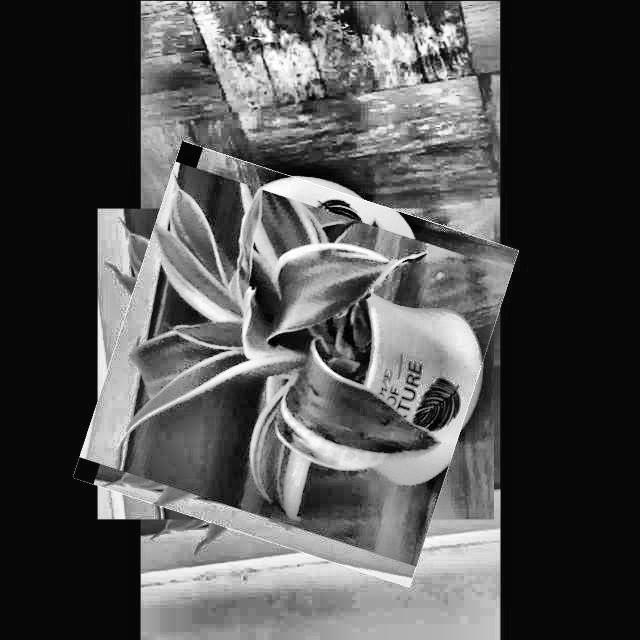plants: (96, 164, 496, 564)
